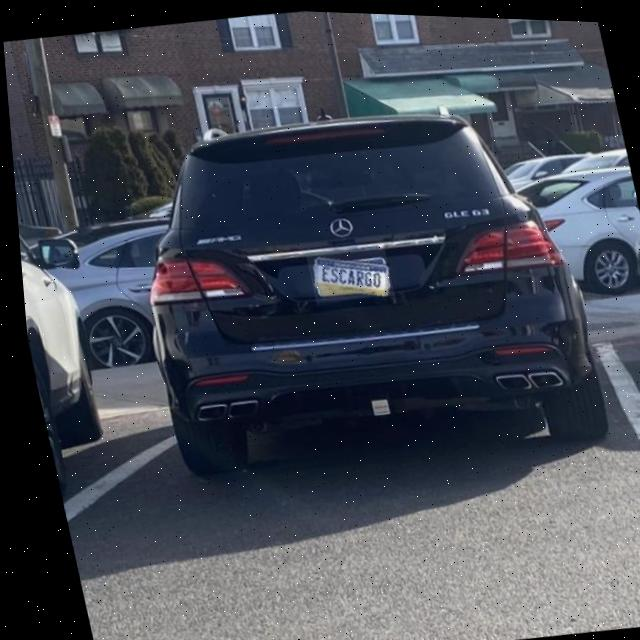LicensePlate: (309, 253, 384, 293)
